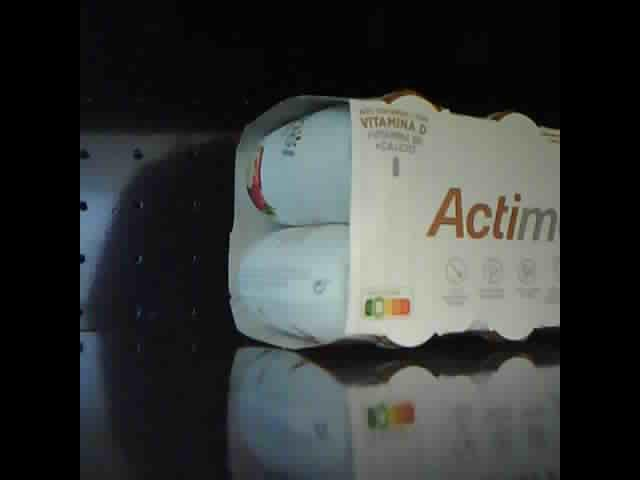actimel: (225, 85, 559, 351)
